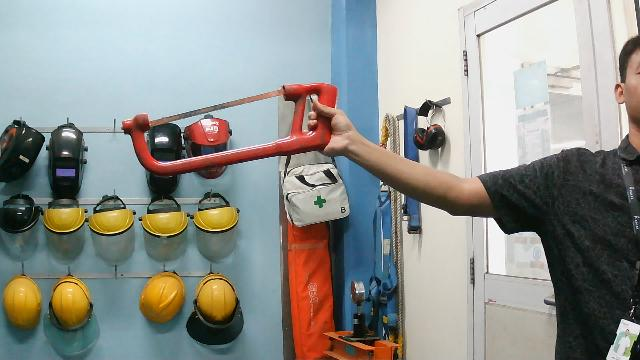gergaji_besi: (115, 75, 341, 184)
